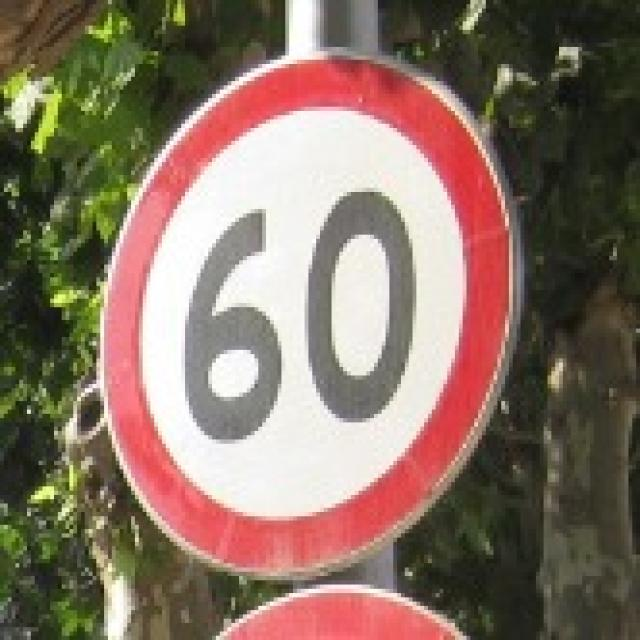Speed Limit -60-: (178, 177, 423, 446)
